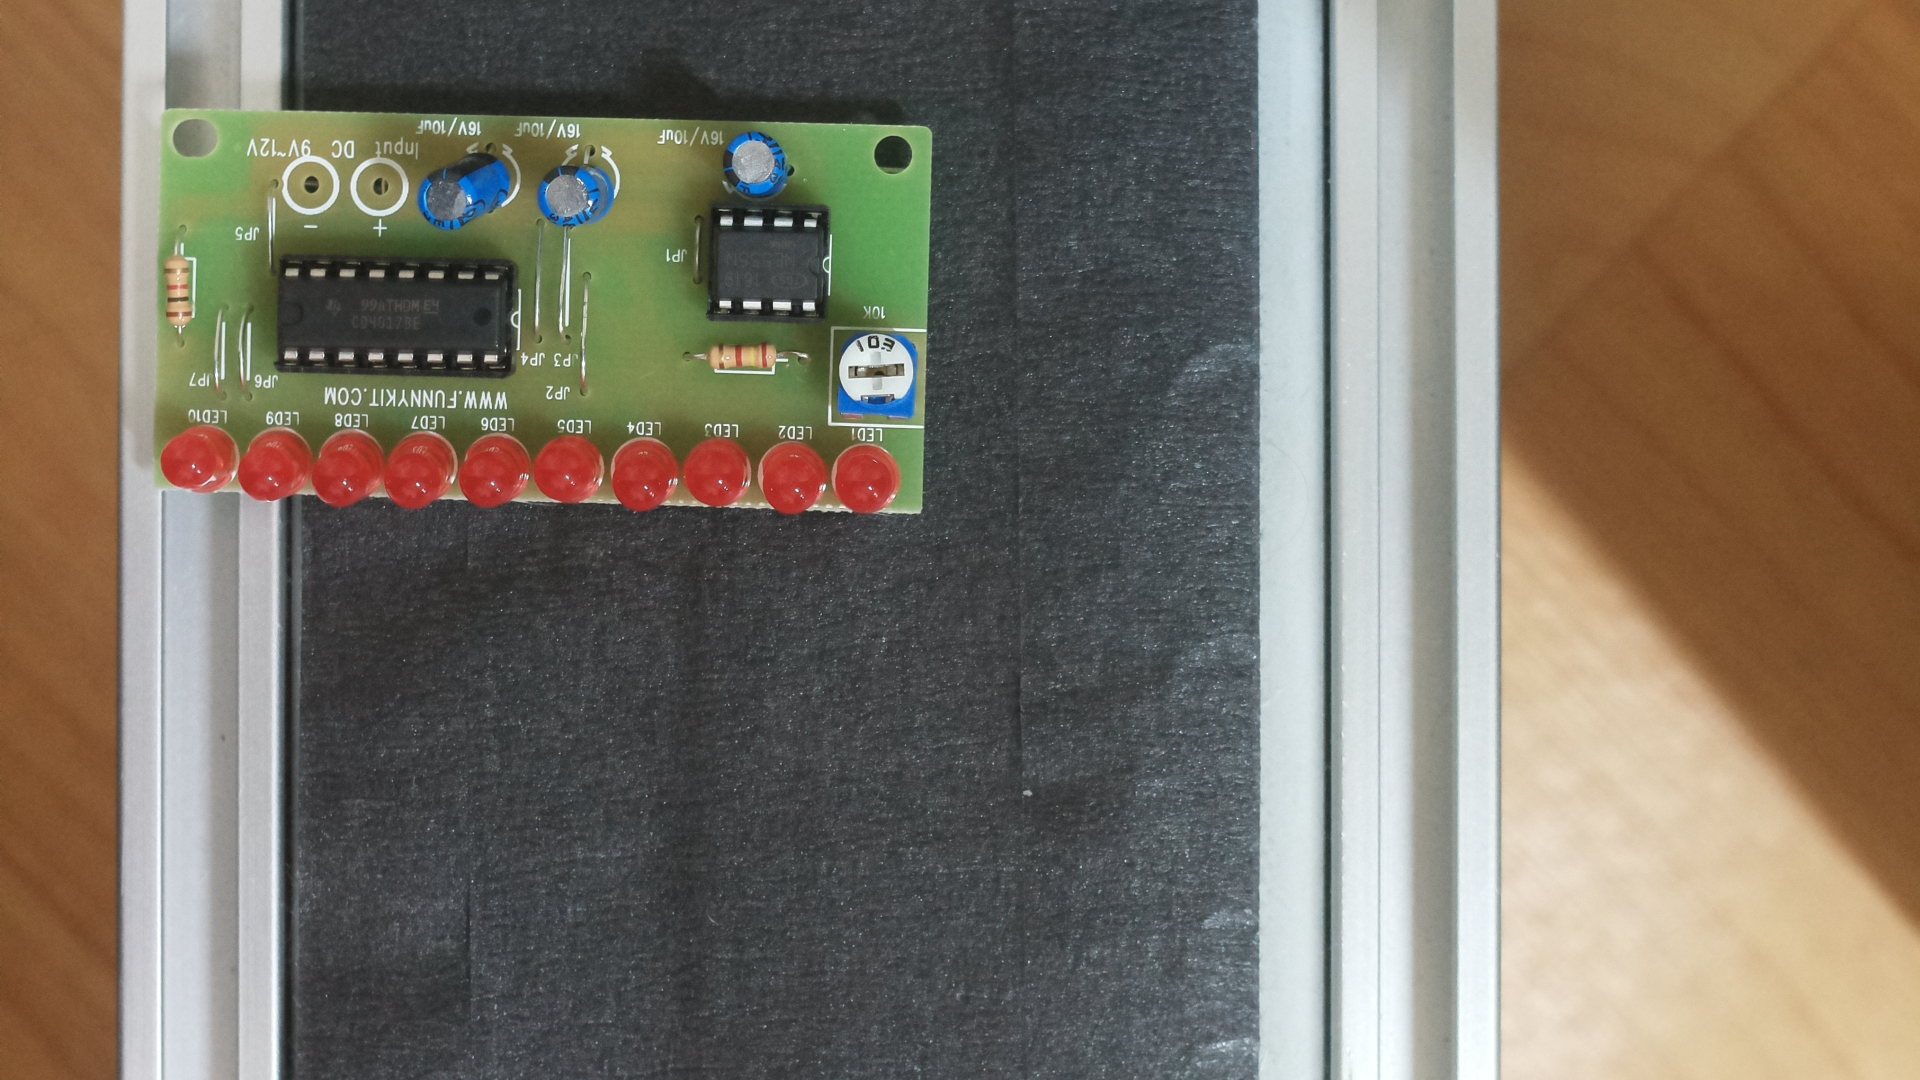B_Normal: (142, 95, 948, 563)
